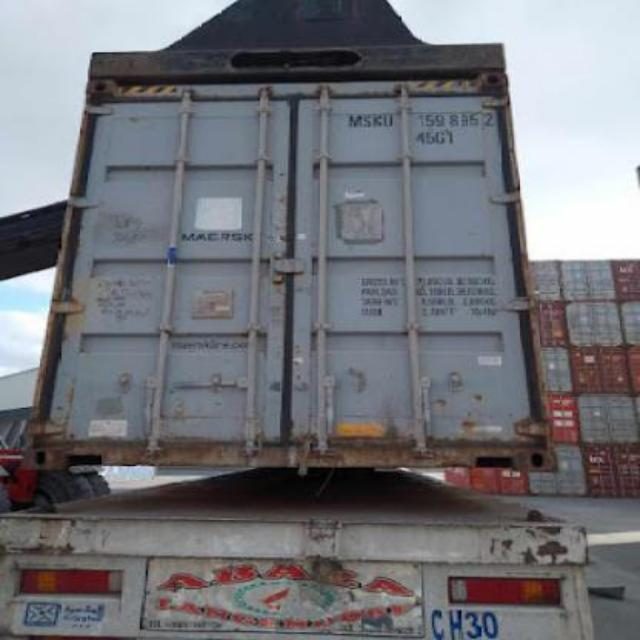1: (416, 114, 424, 126)
2: (482, 112, 496, 126)
5: (424, 112, 436, 128), (470, 114, 478, 128)
8: (448, 114, 460, 128)
9: (460, 112, 470, 126), (436, 114, 446, 126)
K: (372, 113, 384, 129)
M: (348, 114, 362, 128)
S: (364, 115, 372, 128)
U: (384, 112, 394, 128)
